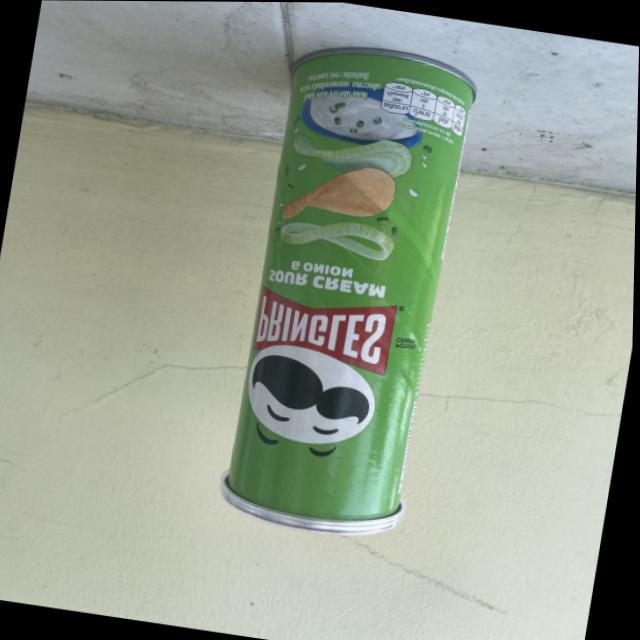a pringles: (208, 26, 494, 553)
